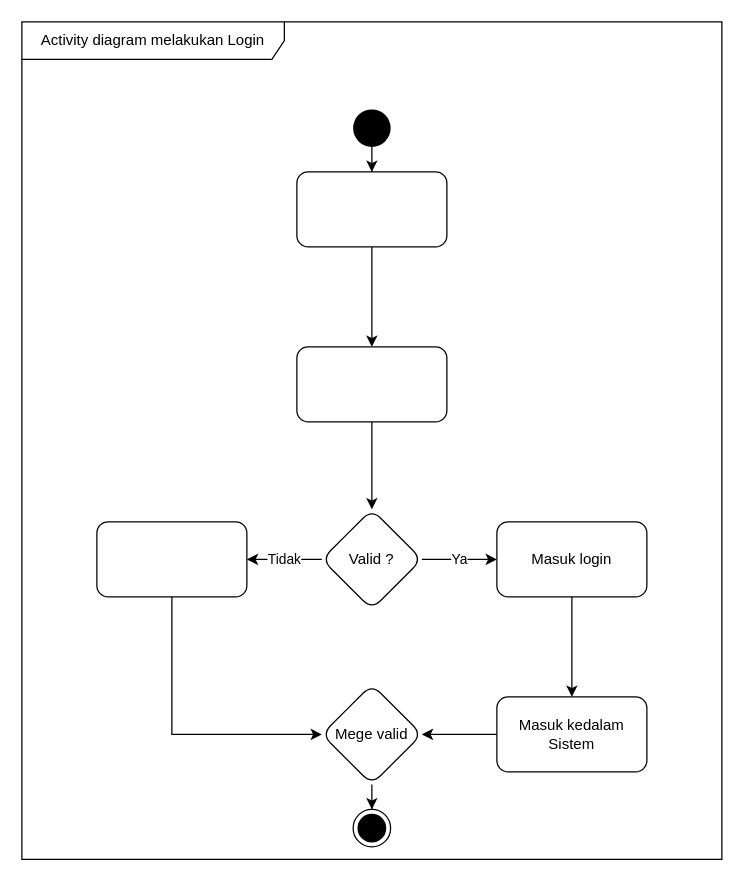
Image size: 744x881. Some labels were removed from this diagram. Each missing label, with the box of its shape:
Masukkan Username: (296, 171, 447, 247)
Tidak masuk kedalam sistem: (96, 521, 247, 597)
Validasi login: (296, 346, 447, 422)
